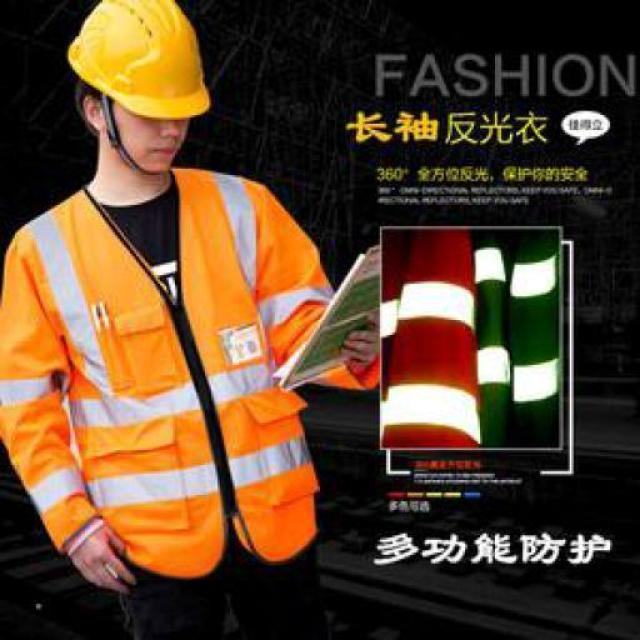hard_hat: (68, 0, 209, 119)
person: (0, 0, 332, 639)
